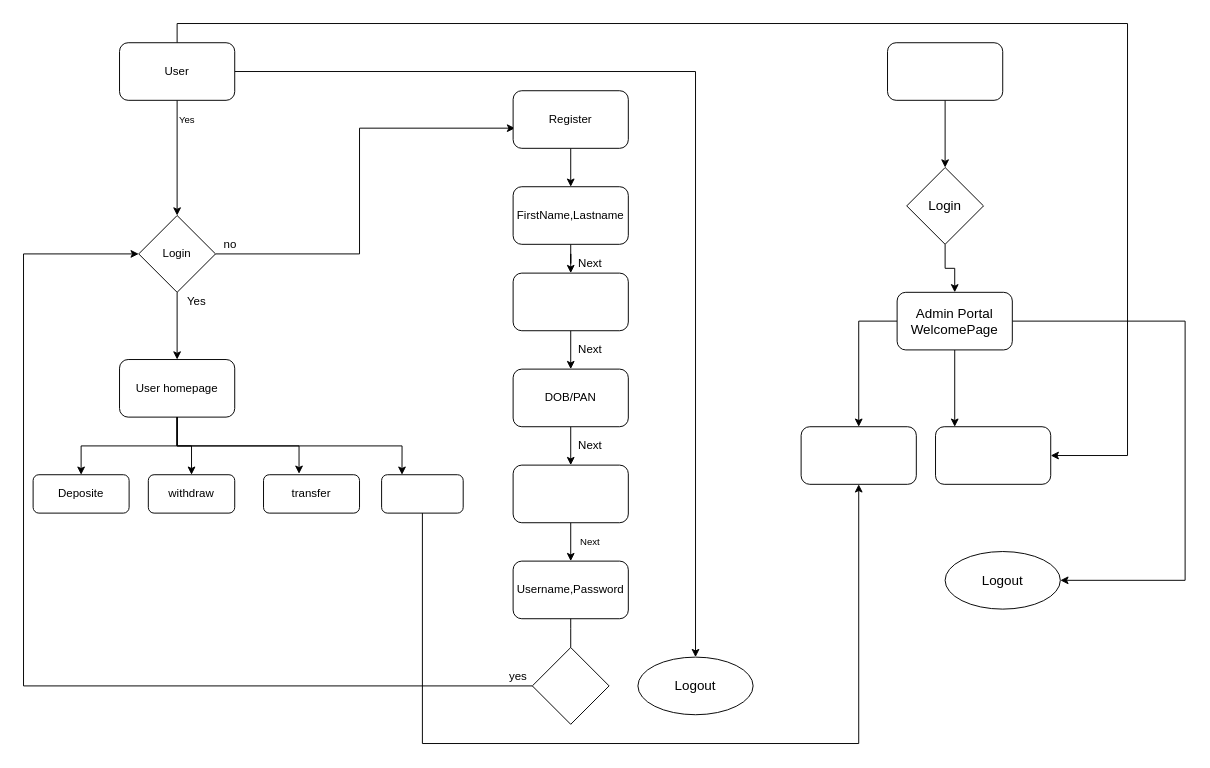
Image size: 1210x768. Some labels were removed from this diagram. The shapes that lost their labels are listed below. From the top down, each one's centre as x and y in pixels, then its label:
At (x=945, y=71): "Admin".
At (x=570, y=301): "Email/mobile".
At (x=858, y=455): "Checkbook Requests".
At (x=993, y=455): "UserAccounts".
At (x=422, y=493): "Checkbook Request".
At (x=570, y=493): "address".
At (x=570, y=685): "confirm".
